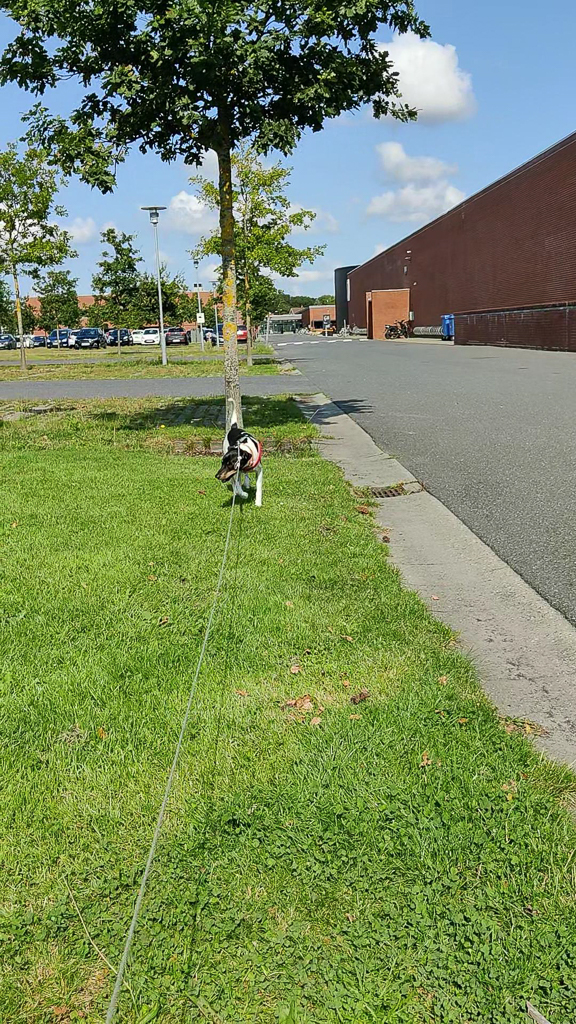Dog: (201, 394, 282, 514)
